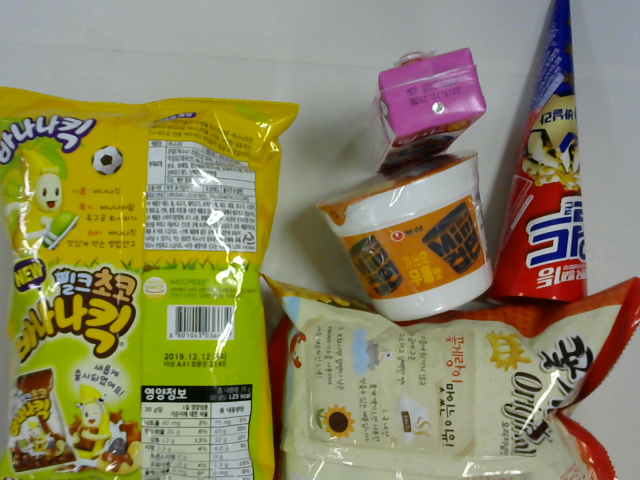Banana_Kick: (1, 89, 300, 479)
Crabrang: (256, 273, 640, 480)
Strawberry_E_Mong: (369, 46, 485, 175)
Udongmini: (317, 153, 494, 325)
World_Cone_Banila: (491, 1, 590, 313)
